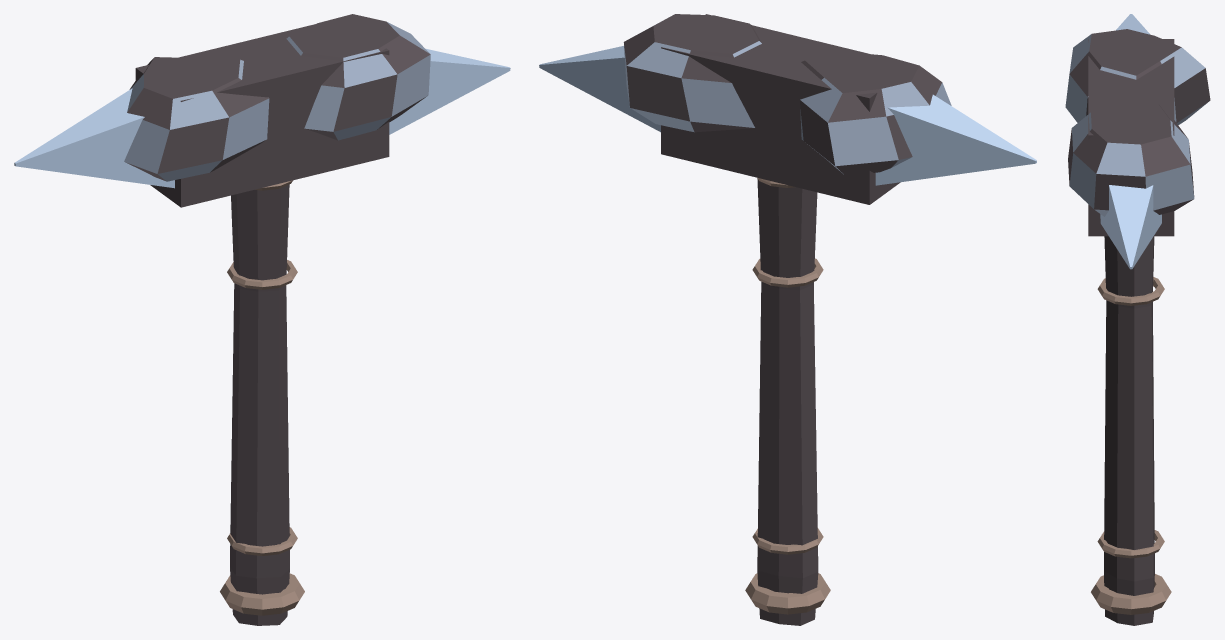
The model's file is BH_PICK_P07_Marreta_Lunar_Fragmentada_V01.glb.
3 views of the same model, side by side, from view 1: azimuth 30°, elevation 25°; view 2: azimuth 150°, elevation 25°; view 3: azimuth 270°, elevation 25° (orthographic). The views are drawn at different scales.
Visible parts, largest first — view 1: Handle | shaped shaft.001, Head | main crossbar.001, Head | lunar slab -1.001, Head | lunar slab 1.001, Head | mining tooth L.001, Head | mining tooth R.001, Handle | pommel.001, Handle | binding 3.001, Handle | binding 1.001; view 2: Handle | shaped shaft.001, Head | main crossbar.001, Head | lunar slab -1.001, Head | lunar slab 1.001, Head | mining tooth L.001, Head | mining tooth R.001, Handle | pommel.001, Handle | binding 3.001, Handle | binding 1.001; view 3: Handle | shaped shaft.001, Head | lunar slab 1.001, Head | lunar slab -1.001, Head | main crossbar.001, Head | mining tooth R.001, Handle | pommel.001, Handle | binding 3.001, Handle | binding 1.001, Head | mining tooth L.001.
Boxes of the visible parts, bbox=[...] form: Handle | shaped shaft.001: bbox=[230, 184, 289, 625]; Head | main crossbar.001: bbox=[135, 24, 389, 207]; Head | lunar slab -1.001: bbox=[124, 57, 269, 181]; Head | lunar slab 1.001: bbox=[286, 14, 430, 140]; Head | mining tooth L.001: bbox=[14, 88, 174, 188]; Head | mining tooth R.001: bbox=[389, 48, 510, 134]; Handle | pommel.001: bbox=[220, 573, 304, 615]; Handle | binding 3.001: bbox=[227, 260, 297, 289]; Handle | binding 1.001: bbox=[227, 527, 297, 555]; Handle | shaped shaft.001: bbox=[757, 178, 818, 625]; Head | main crossbar.001: bbox=[661, 14, 900, 204]; Head | lunar slab -1.001: bbox=[800, 52, 951, 175]; Head | lunar slab 1.001: bbox=[623, 14, 761, 132]; Head | mining tooth L.001: bbox=[875, 94, 1036, 185]; Head | mining tooth R.001: bbox=[539, 46, 660, 132]; Handle | pommel.001: bbox=[745, 573, 830, 614]; Handle | binding 3.001: bbox=[752, 258, 823, 287]; Handle | binding 1.001: bbox=[752, 528, 823, 554]; Handle | shaped shaft.001: bbox=[1104, 236, 1154, 625]; Head | lunar slab 1.001: bbox=[1068, 101, 1194, 216]; Head | lunar slab -1.001: bbox=[1065, 29, 1210, 124]; Head | main crossbar.001: bbox=[1088, 39, 1174, 236]; Head | mining tooth R.001: bbox=[1100, 185, 1161, 269]; Handle | pommel.001: bbox=[1091, 574, 1171, 614]; Handle | binding 3.001: bbox=[1097, 277, 1164, 305]; Handle | binding 1.001: bbox=[1097, 530, 1164, 558]; Head | mining tooth L.001: bbox=[1116, 14, 1149, 34].
Size of the model in its own units: 2.14 by 2.31 by 0.5728.
